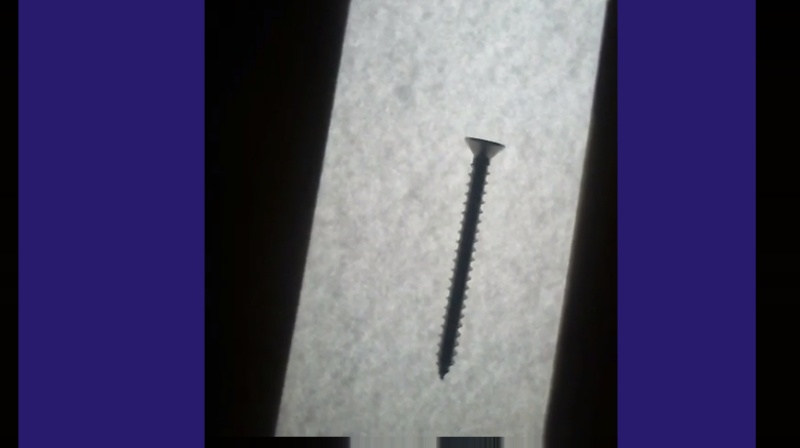S002: (432, 134, 505, 384)
